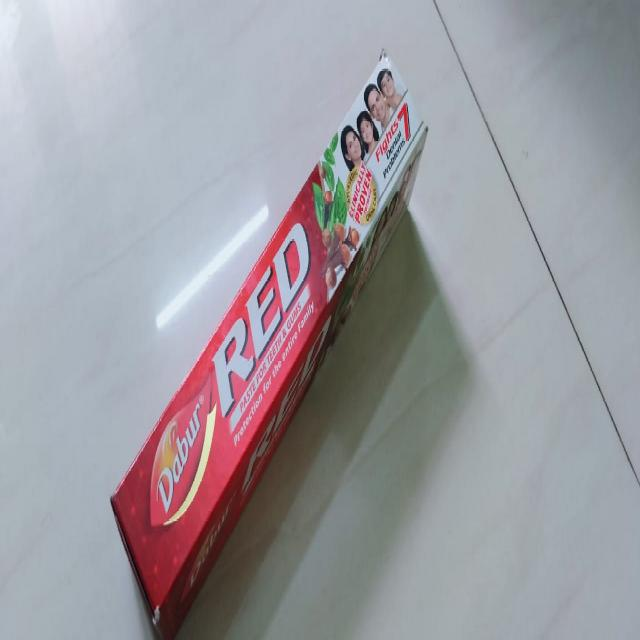tooth paste: (112, 55, 426, 640)
